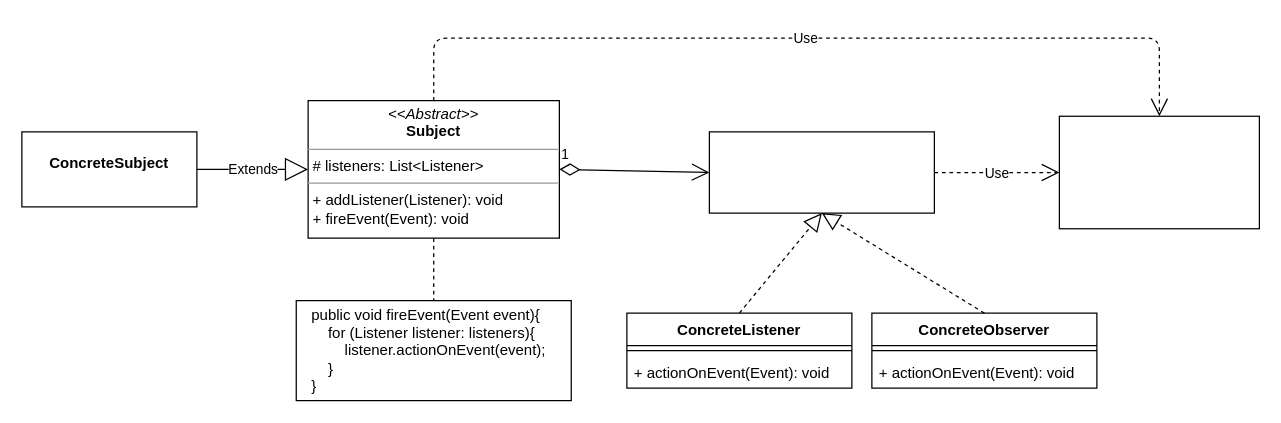
Some shapes in this 1281 by 423 pixel diagram are drawn without their labels. Here are the shapes that lost their labels. From the top down, the centre of each, then its label:
At point 821,172: "<<Interface>> Listener + actionOnEvent(Event): void".
At point 1158,172: "Event + source: Object + getSource(): Object".
